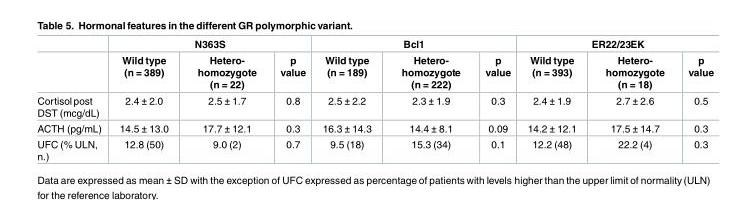table: (36, 37, 713, 161)
table column: (385, 37, 472, 161), (182, 37, 267, 161), (590, 37, 675, 161), (36, 37, 109, 161), (109, 37, 182, 161), (313, 37, 385, 161), (518, 37, 590, 161), (267, 37, 313, 161), (472, 37, 518, 161), (675, 37, 713, 161)
table column header: (36, 37, 713, 91)
table row: (36, 51, 713, 91), (36, 91, 713, 120), (36, 135, 713, 161), (36, 120, 713, 135), (36, 37, 713, 51)
table spanning cell: (313, 37, 518, 51), (109, 37, 313, 51), (518, 37, 713, 51)
